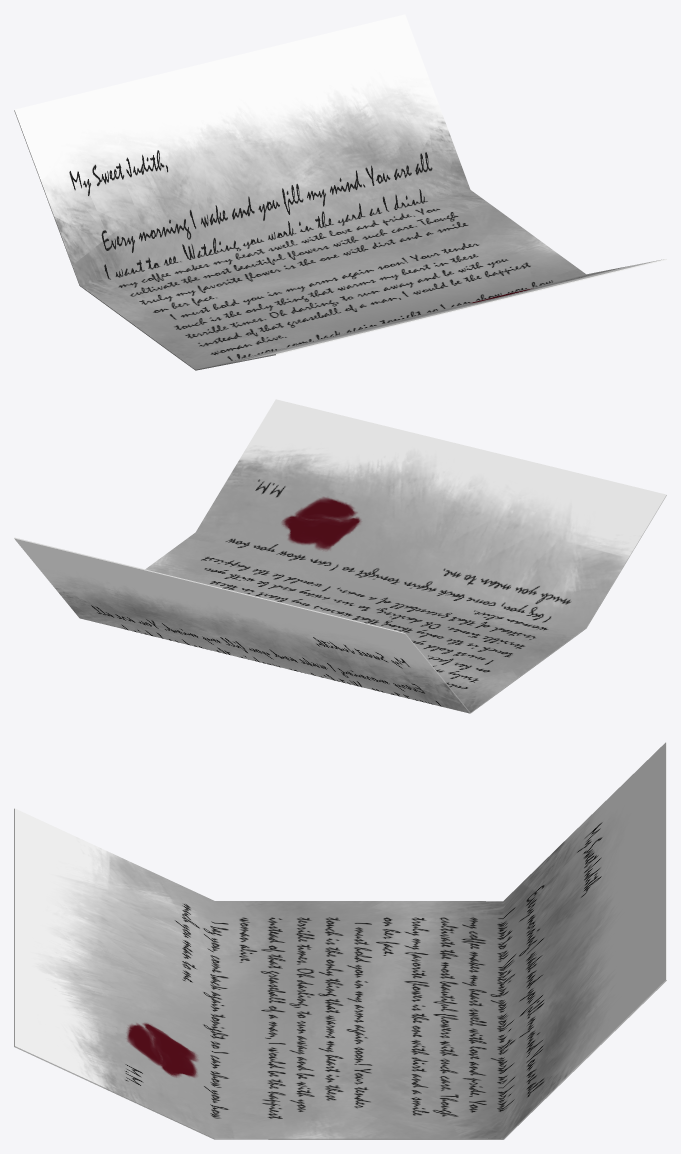
The model's file is letter_1.fbx.
The picture shows the model from 3 angles, top to bottom: view 1: azimuth 30°, elevation 25°; view 2: azimuth 150°, elevation 25°; view 3: azimuth 270°, elevation 25°; orthographic projection. The views are drawn at different scales.
Visible parts, largest first — view 1: letter_1; view 2: letter_1; view 3: letter_1.
Boxes of the visible parts, left/top/right/bottom form: letter_1: left=14, top=14, right=666, bottom=370; letter_1: left=14, top=399, right=666, bottom=713; letter_1: left=14, top=742, right=666, bottom=1139.
Bounding box in the file's own units: 36.64 × 11.51 × 42.55.
Materials: 1 (1 with a texture image).
